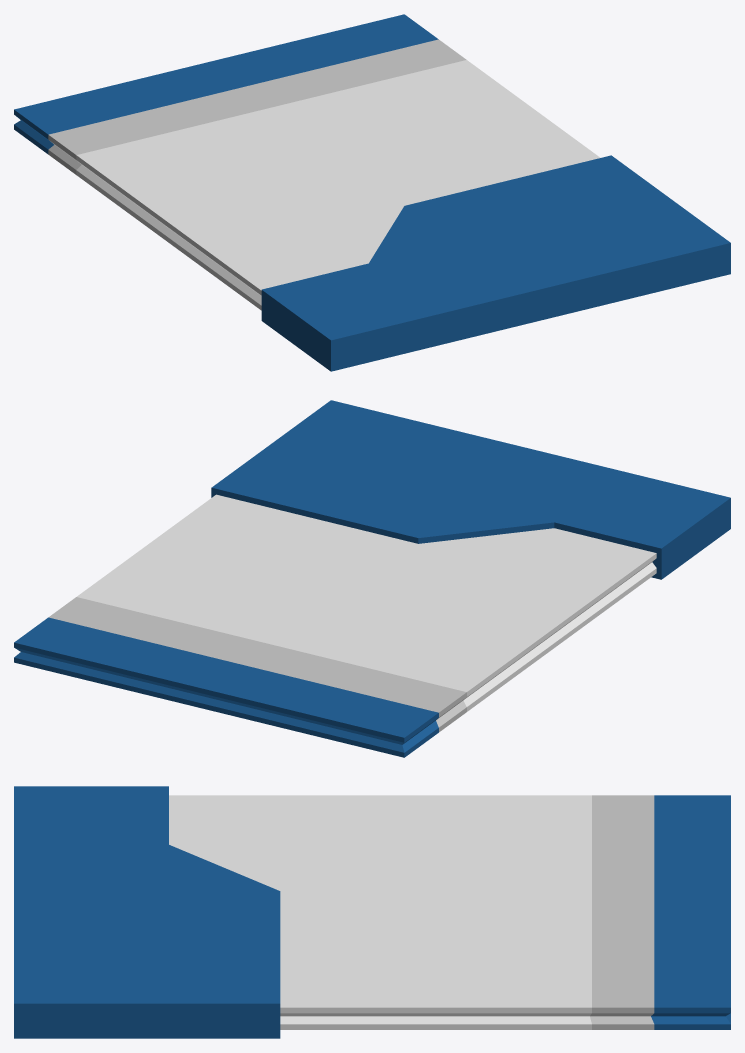
Rendered from goodJavaDoc.glb.
3 renders of one model, top to bottom at view 1: azimuth 30°, elevation 25°; view 2: azimuth 150°, elevation 25°; view 3: azimuth 270°, elevation 25°, orthographic. The views are drawn at different scales.
Visible parts, largest first — view 1: Plane; view 2: Plane; view 3: Plane.
Boxes of the visible parts, box(x1,y1,x2,y2) form: Plane: box(14, 14, 730, 371); Plane: box(14, 400, 730, 757); Plane: box(14, 786, 730, 1038).
Bounding box in the file's own units: 0.2102 × 0.0157 × 0.2929.
